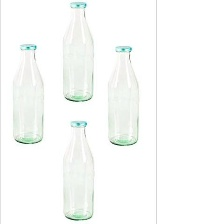bottle: (104, 41, 148, 153), (6, 38, 50, 148), (54, 0, 96, 104), (59, 115, 97, 221)
